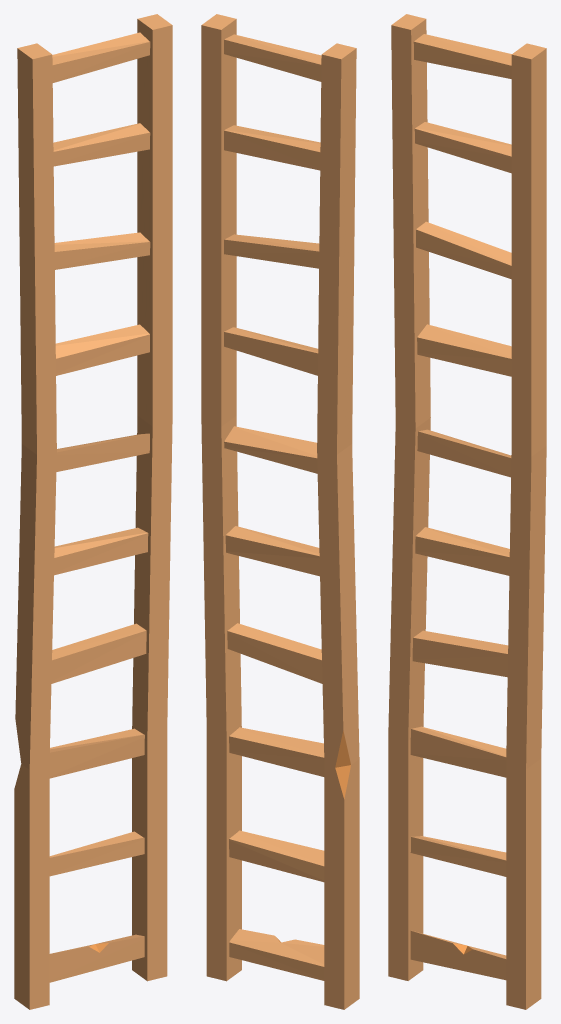
The model's file is ladder.02.fbx.
The picture shows the model from 3 angles, left to right: view 1: azimuth 30°, elevation 25°; view 2: azimuth 150°, elevation 25°; view 3: azimuth 330°, elevation 25°; orthographic projection.
Visible parts, largest first — view 1: ladder.02; view 2: ladder.02; view 3: ladder.02.
Boxes of the visible parts, x1,y1,x2,y2 form: ladder.02: [14, 14, 172, 1009]; ladder.02: [201, 14, 359, 1009]; ladder.02: [388, 14, 546, 1009].
Bounding box in the file's own units: 0.63 × 4 × 0.1164.
